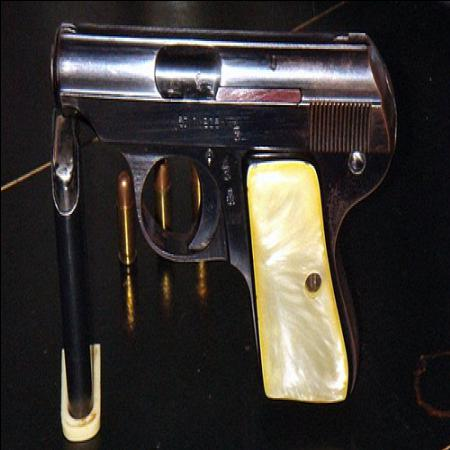Pistol: (49, 20, 392, 394)
